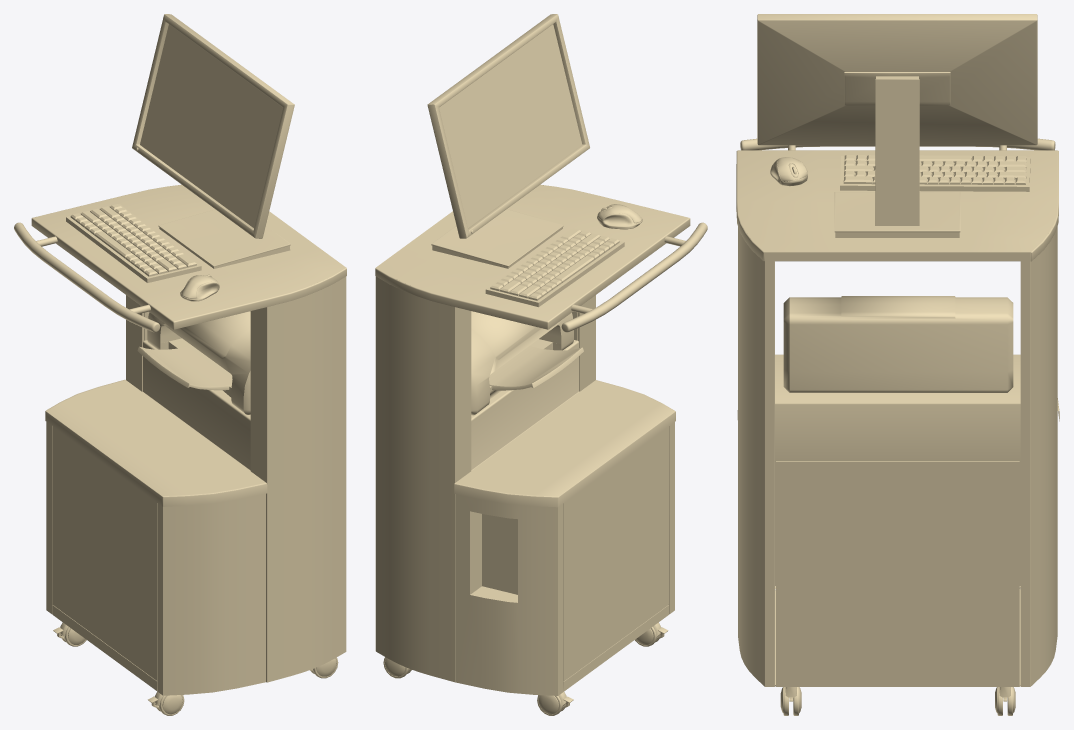
Rendered from Station_Computer_FixedDoubleSided.FBX.
3 renders of one model, left to right at view 1: azimuth 30°, elevation 25°; view 2: azimuth 150°, elevation 25°; view 3: azimuth 270°, elevation 25°, orthographic. The views are drawn at different scales.
Visible parts, largest first — view 1: Biodex_Station_Chassis; view 2: Biodex_Station_Chassis; view 3: Biodex_Station_Chassis.
Boxes of the visible parts, left/top/right/bottom form: Biodex_Station_Chassis: left=14, top=14, right=346, bottom=715; Biodex_Station_Chassis: left=375, top=14, right=707, bottom=715; Biodex_Station_Chassis: left=736, top=14, right=1059, bottom=715.
Size of the model in its own units: 56.61 by 149 by 65.04.
